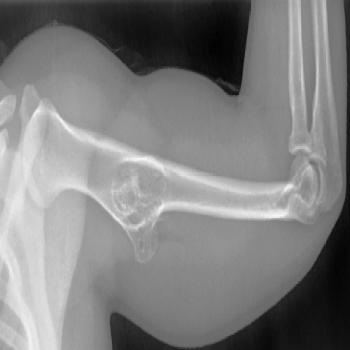Fracture: (106, 151, 173, 242)
